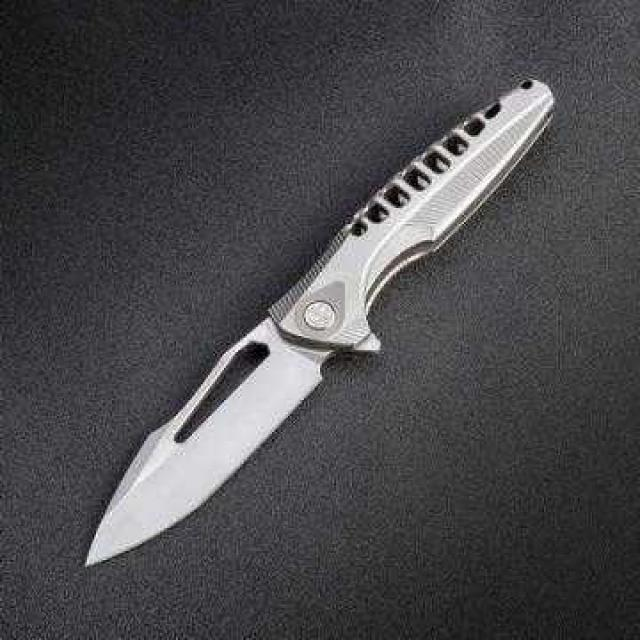Knife: (80, 72, 560, 576)
